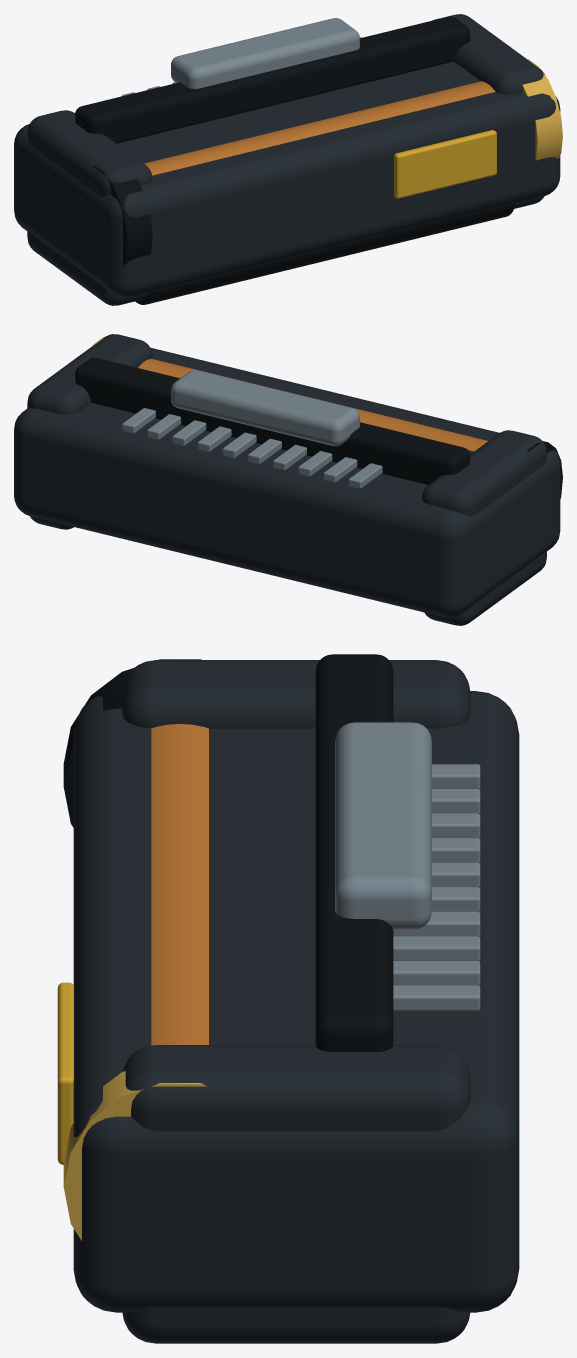
Rendered from printer-fuser-unit.glb.
3 renders of one model, top to bottom at view 1: azimuth 30°, elevation 25°; view 2: azimuth 150°, elevation 25°; view 3: azimuth 270°, elevation 25°, orthographic. The views are drawn at different scales.
Visible parts, largest first — view 1: Fuser chassis, Paper guide, Fuser end housing (×2), Heat-safe removal handle, Heated fuser roller, Hot surface warning plate, Pressure roller, Fuser drive gear (×2); view 2: Fuser chassis, Fuser end housing (×2), Paper guide, Heat-safe removal handle, Heat vent (×10), Heated fuser roller; view 3: Fuser chassis, Fuser end housing (×2), Paper guide, Heat-safe removal handle, Heated fuser roller, Heat vent (×10), Fuser drive gear (×2), Hot surface warning plate.
Boxes of the visible parts, bbox=[...] form: Fuser chassis: bbox=[14, 61, 560, 297]; Paper guide: bbox=[75, 16, 469, 143]; Fuser end housing (×2): bbox=[27, 14, 545, 305]; Heat-safe removal handle: bbox=[171, 18, 359, 88]; Heated fuser roller: bbox=[144, 81, 495, 175]; Hot surface warning plate: bbox=[394, 130, 496, 198]; Pressure roller: bbox=[135, 203, 515, 304]; Fuser drive gear (×2): bbox=[92, 59, 562, 265]; Fuser chassis: bbox=[14, 347, 560, 617]; Fuser end housing (×2): bbox=[27, 334, 546, 625]; Paper guide: bbox=[75, 357, 469, 484]; Heat-safe removal handle: bbox=[171, 370, 359, 446]; Heat vent (×10): bbox=[122, 408, 382, 488]; Heated fuser roller: bbox=[138, 358, 488, 451]; Fuser chassis: bbox=[73, 691, 519, 1312]; Fuser end housing (×2): bbox=[122, 660, 470, 1343]; Paper guide: bbox=[315, 654, 393, 1051]; Heat-safe removal handle: bbox=[335, 722, 431, 929]; Heated fuser roller: bbox=[151, 724, 208, 1045]; Heat vent (×10): bbox=[393, 764, 480, 1010]; Fuser drive gear (×2): bbox=[63, 659, 206, 1240]; Hot surface warning plate: bbox=[57, 982, 73, 1164].
Size of the model in its own units: 2.15 by 0.81 by 0.9525.
